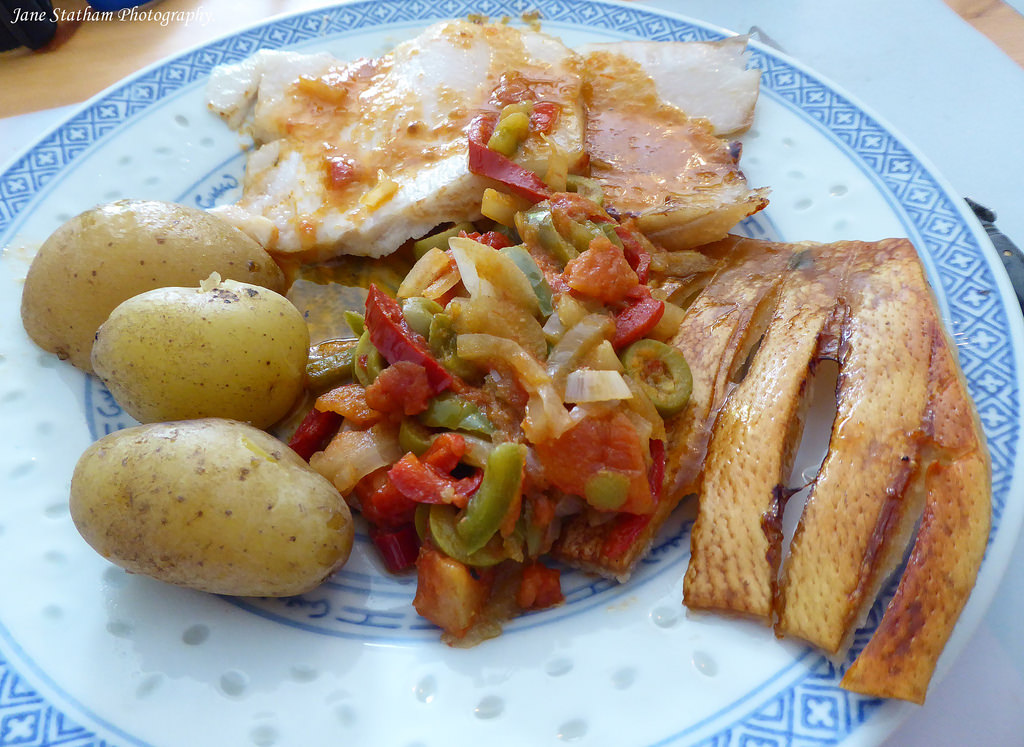boiled potatoes: (29, 214, 306, 414), (62, 428, 361, 604)
fried egg: (224, 35, 570, 230), (562, 27, 783, 242)
